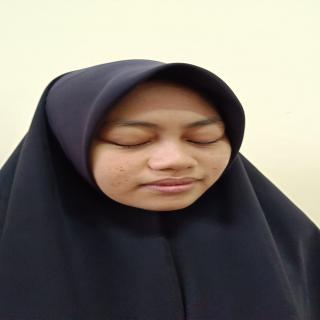Sedih: (80, 76, 246, 216)
